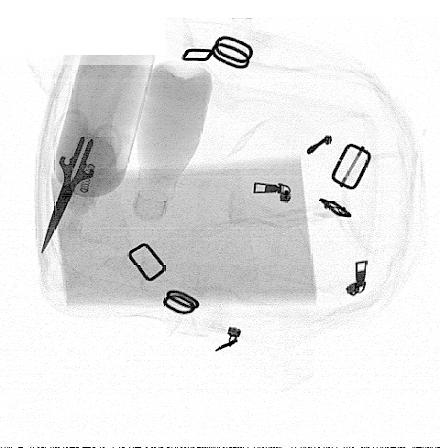Scissors: (40, 111, 124, 254)
